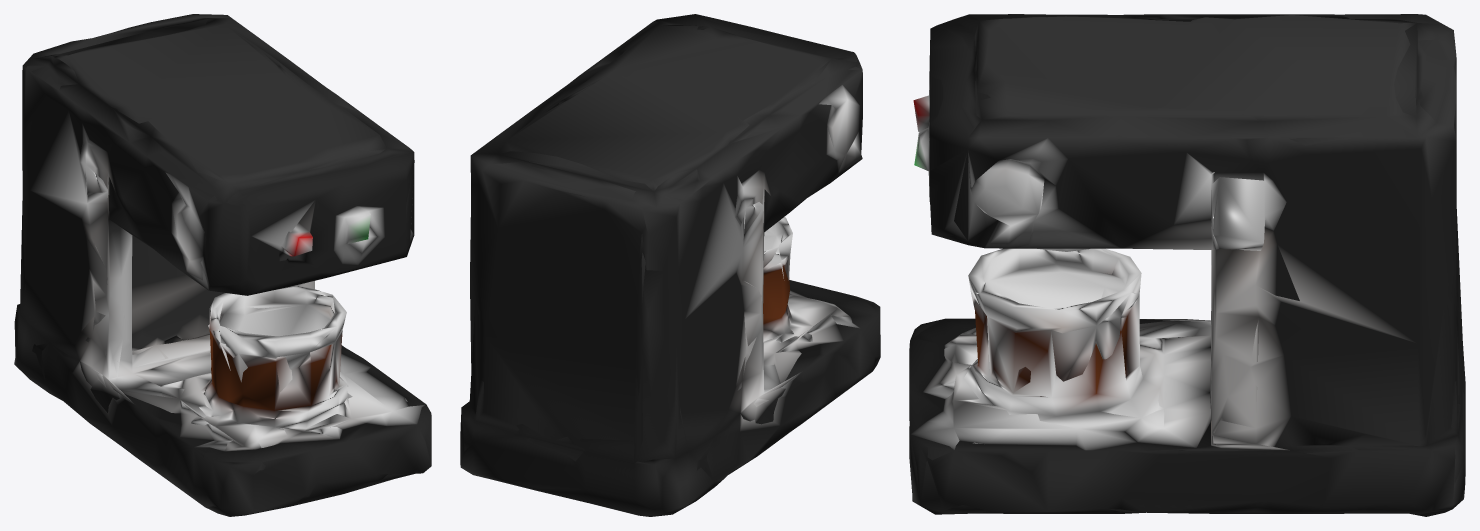
Rendered from gen3d-espresso-machine-lod0.glb.
The picture shows the model from 3 angles, left to right: view 1: azimuth 30°, elevation 25°; view 2: azimuth 150°, elevation 25°; view 3: azimuth 270°, elevation 25°; orthographic projection. The views are drawn at different scales.
Visible parts, largest first — view 1: part_0; view 2: part_0; view 3: part_0.
Boxes of the visible parts, x1,y1,x2,y2 form: part_0: (14,14,431,516); part_0: (460,14,880,516); part_0: (909,14,1465,516).
Bounding box in the file's own units: 0.7192 × 0.9986 × 1.28.
